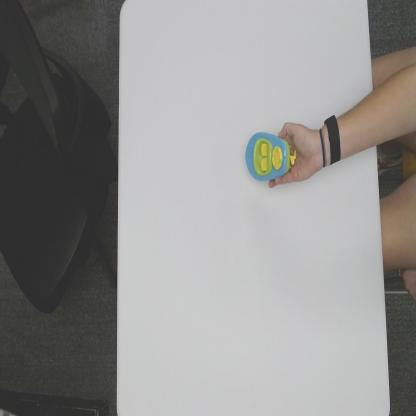Arm: (342, 94, 376, 158)
Boat: (244, 131, 298, 182)
Hand: (268, 122, 322, 188)
